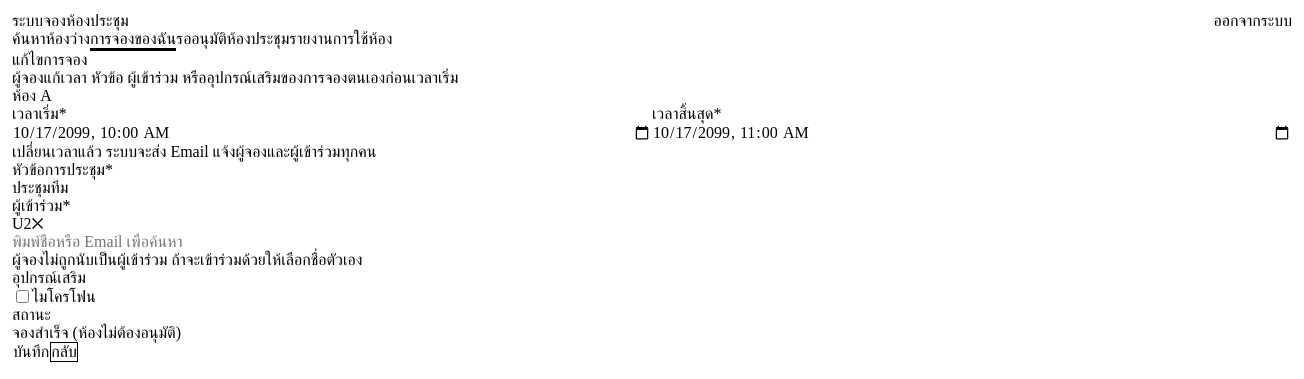
Test: FE-mrr-004 edit booking page (UI-mrr-008) › the BR-mrr-002 checks hold here too — no empty title, no empty attendee list
Clear the field with test id "ui-mrr-008-ent-007-title" at [652, 188], box x1=12 y1=179 x2=1292 y2=197
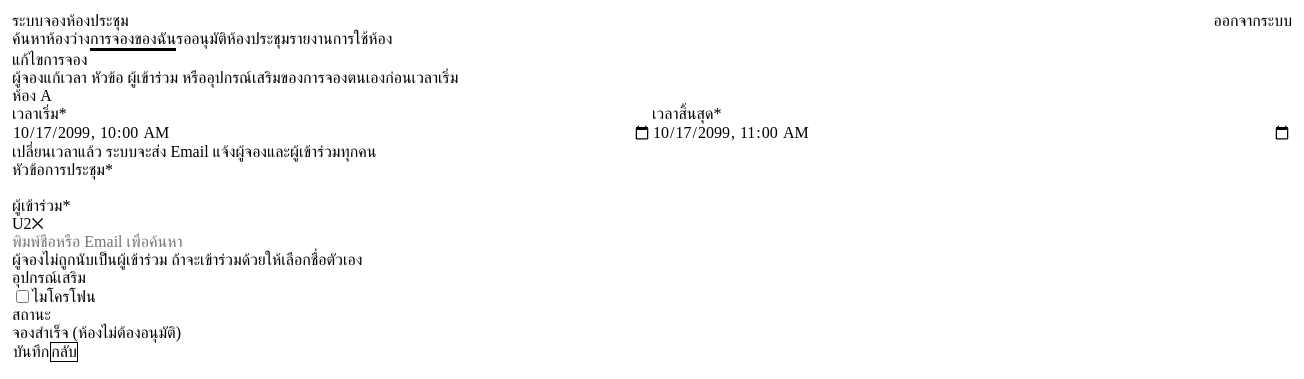
Click the button named "เอา U2 ออก" at [38, 224], box x1=32 y1=215 x2=44 y2=233
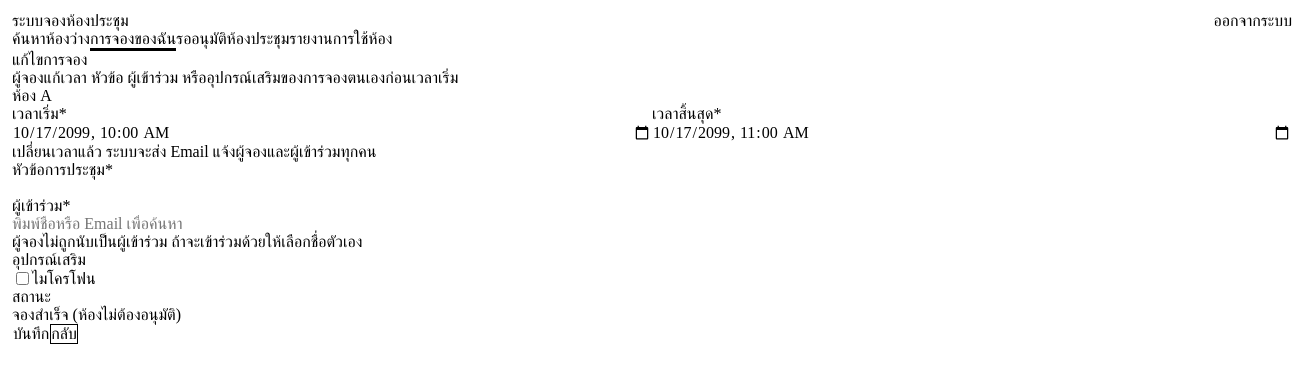
Click the button with test id "ui-mrr-008-save" at [31, 334], box x1=12 y1=324 x2=50 y2=344
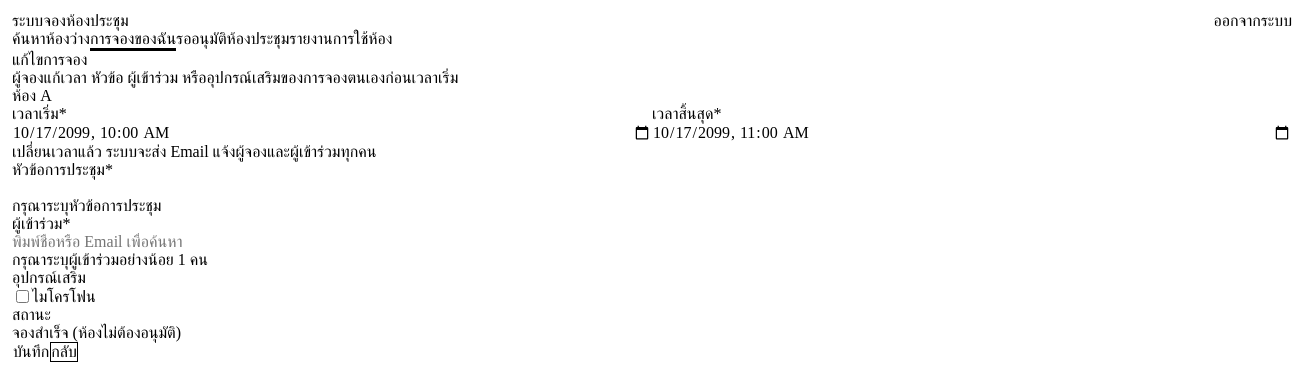
Expected: the text "กรุณาระบุหัวข้อการประชุม" is shown, x1=12 y1=197 x2=162 y2=214
Expected: the text "กรุณาระบุผู้เข้าร่วมอย่างน้อย 1 คน" is shown, x1=12 y1=251 x2=208 y2=268
